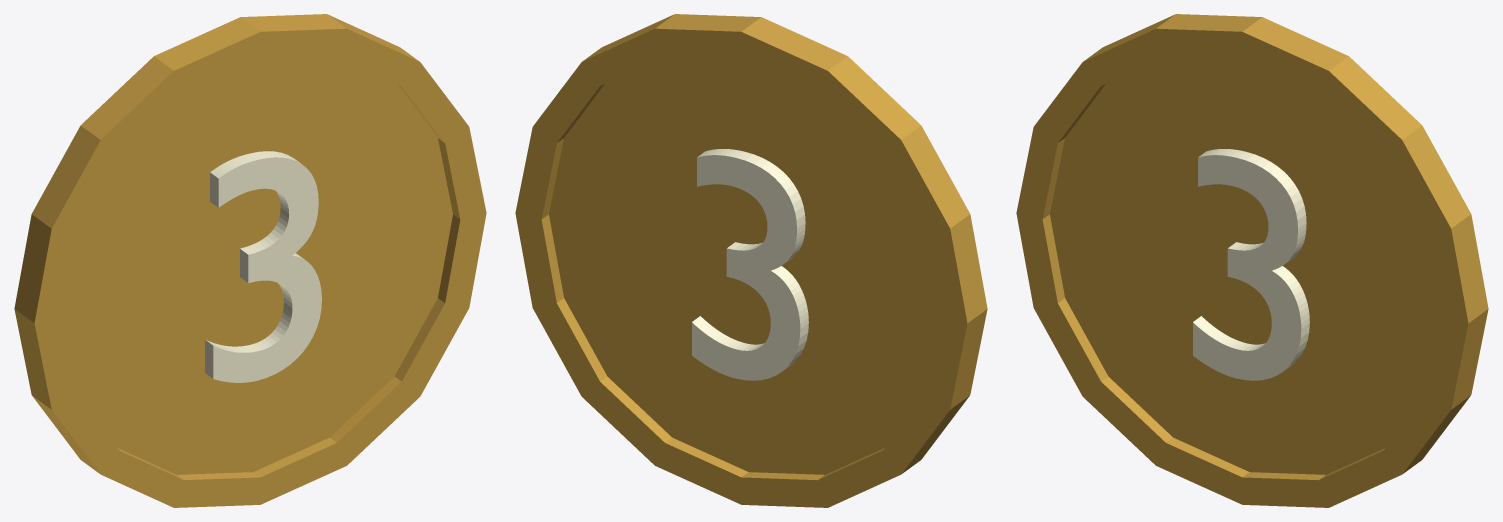
Rendered from Coin3.dae.
The picture shows the model from 3 angles, left to right: view 1: azimuth 30°, elevation 25°; view 2: azimuth 150°, elevation 25°; view 3: azimuth 330°, elevation 25°; orthographic projection.
Visible parts, largest first — view 1: Circle_003, Text_005; view 2: Circle_003, Text_019; view 3: Circle_003, Text_005.
Part boxes in pixels (x1,y1,x2,y2): Circle_003: [14, 14, 486, 507]; Text_005: [205, 151, 321, 382]; Circle_003: [515, 14, 987, 507]; Text_019: [692, 149, 808, 380]; Circle_003: [1016, 14, 1488, 507]; Text_005: [1193, 149, 1309, 380].
Bounding box in the file's own units: 0.9666 × 0.0839 × 0.9666.
